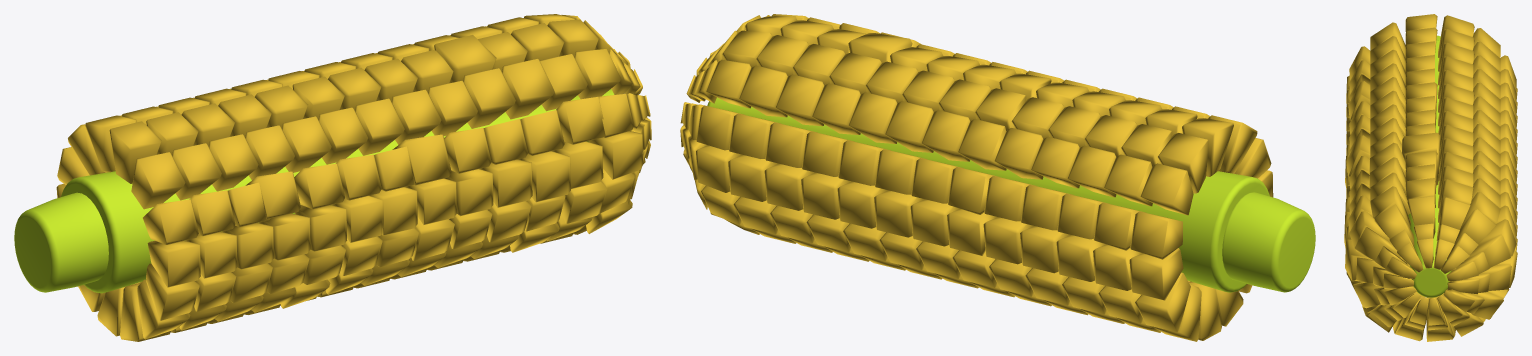
File: realcorn.glb
3 views of the same model, side by side, from view 1: azimuth 30°, elevation 25°; view 2: azimuth 150°, elevation 25°; view 3: azimuth 270°, elevation 25° (orthographic). The views are drawn at different scales.
Parts seen in each view (by area): view 1: Cube.011_3, Cylinder_0; view 2: Cube.011_3, Cylinder_0; view 3: Cube.011_3, Cylinder_0.
Boxes of the visible parts, box(x1,y1,x2,y2) form: Cube.011_3: box(56, 14, 651, 341); Cylinder_0: box(14, 89, 614, 293); Cube.011_3: box(680, 14, 1273, 341); Cylinder_0: box(707, 97, 1315, 292); Cube.011_3: box(1344, 14, 1517, 341); Cylinder_0: box(1408, 35, 1451, 297).
Size of the model in its own units: 0.2 by 0.0671 by 0.0663.
